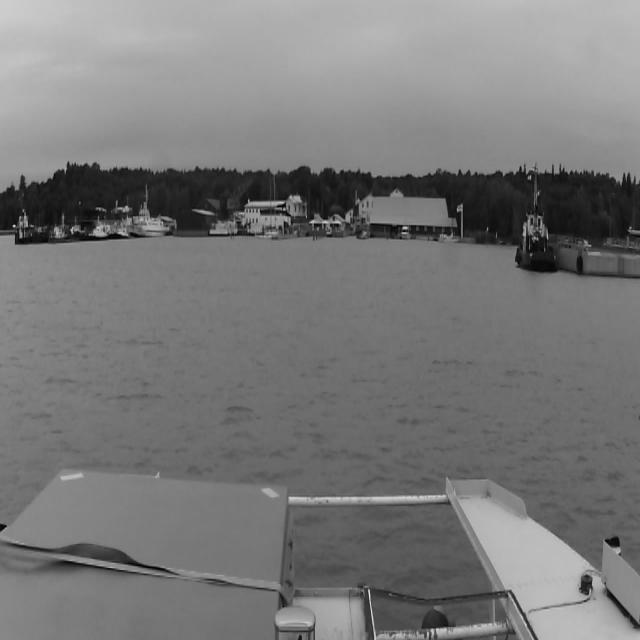ship: (518, 164, 562, 274), (254, 188, 270, 235), (399, 222, 407, 238)
